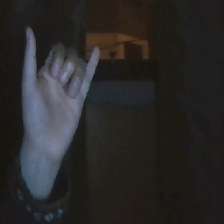Y: (16, 22, 106, 168)
